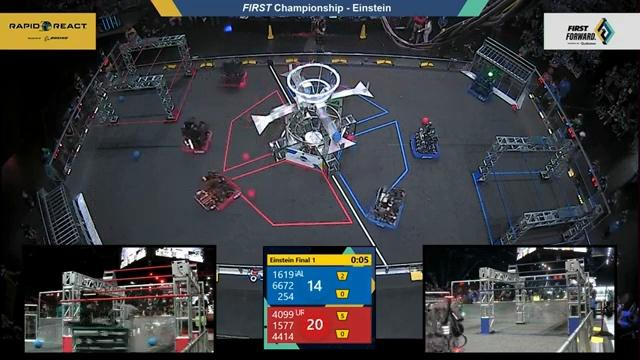robot: (191, 162, 249, 218), (364, 178, 415, 230), (425, 291, 467, 353), (406, 111, 445, 161), (175, 113, 215, 155), (462, 65, 503, 103), (211, 54, 251, 92)
